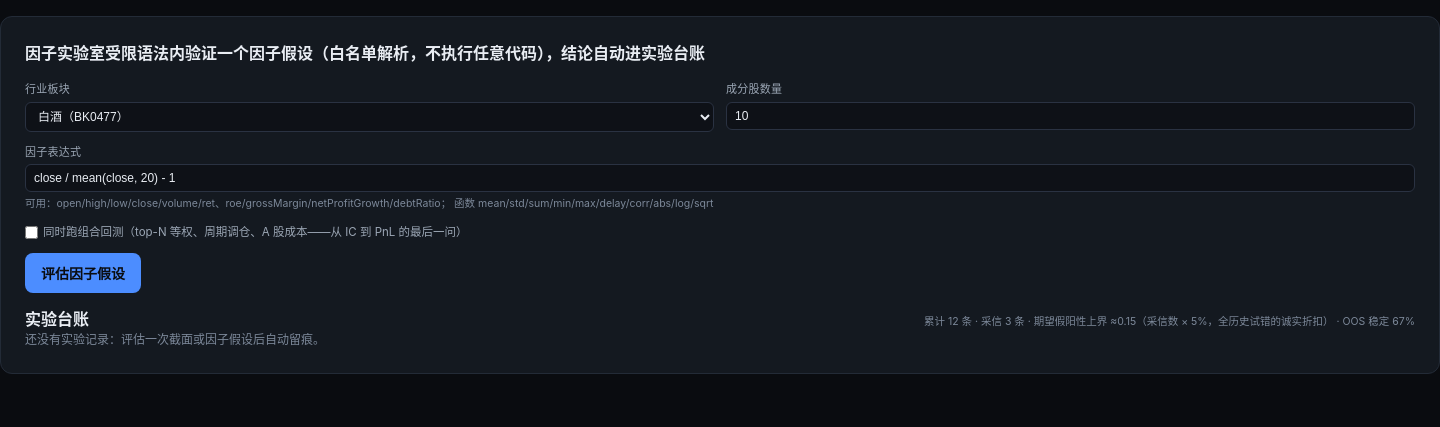
Test case: FactorLabPanel —— 结果渲染与统计口径 › 成功结果：渲染入组/观测/入台账摘要与每个持有期的 IC、p、OOS、采信结论
Click the button "评估因子假设".
click(83, 273)  # box [25,253,141,293]
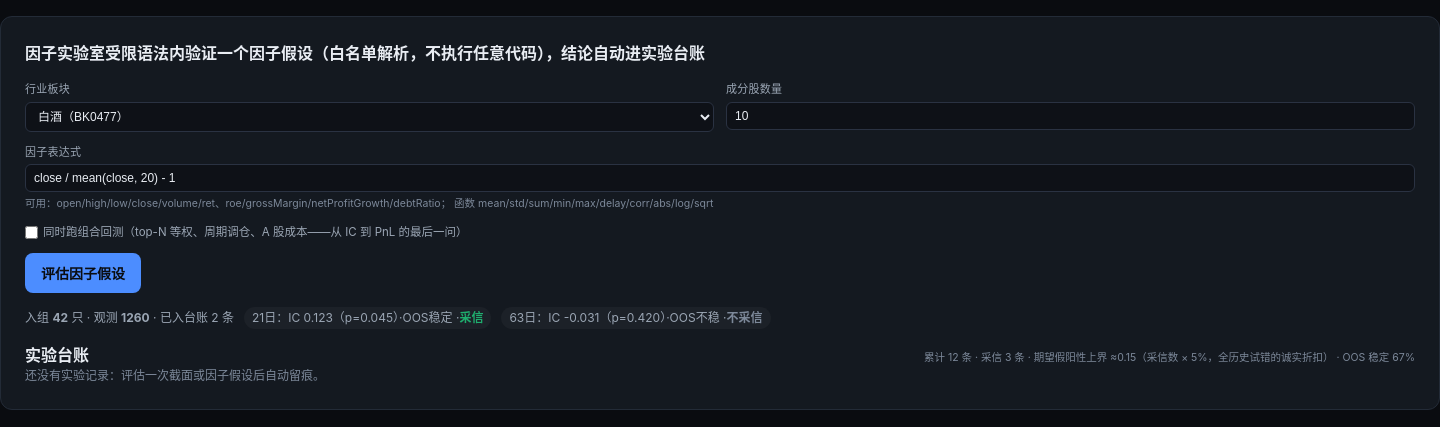
Expected: the text "已入台账" is shown, [150,310,211,325]
Expected: the text "已入台账" shows "入组 42 只 · 观测 1260 · 已入台账 2 条", [25,307,770,329]
Expected: the text "21日：IC 0.123（p=0.045）·OOS稳定 ·采信" is shown, [244,307,491,329]
